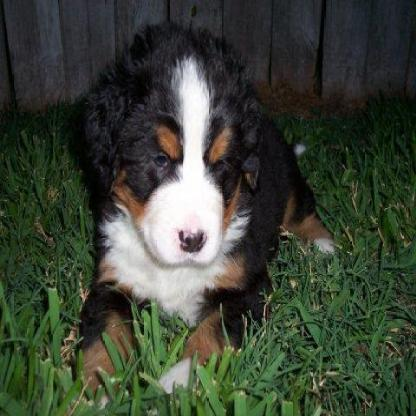Bernese_mountain_dog: (64, 20, 336, 392)
